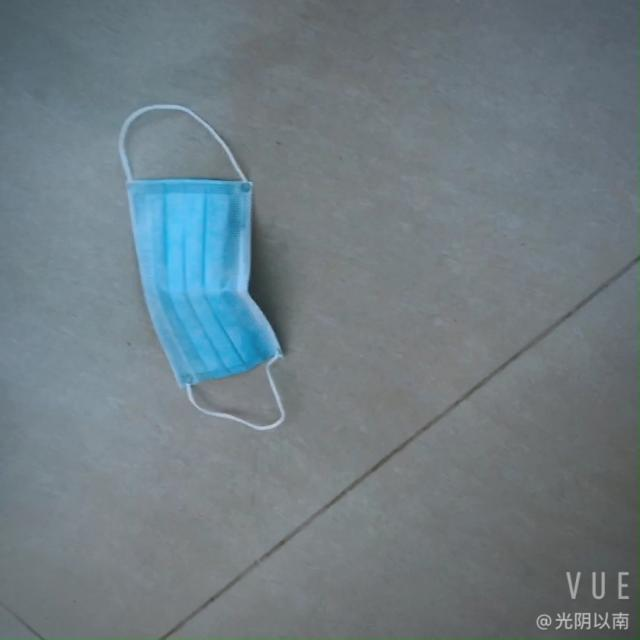non-organic waste: (117, 125, 284, 414)
